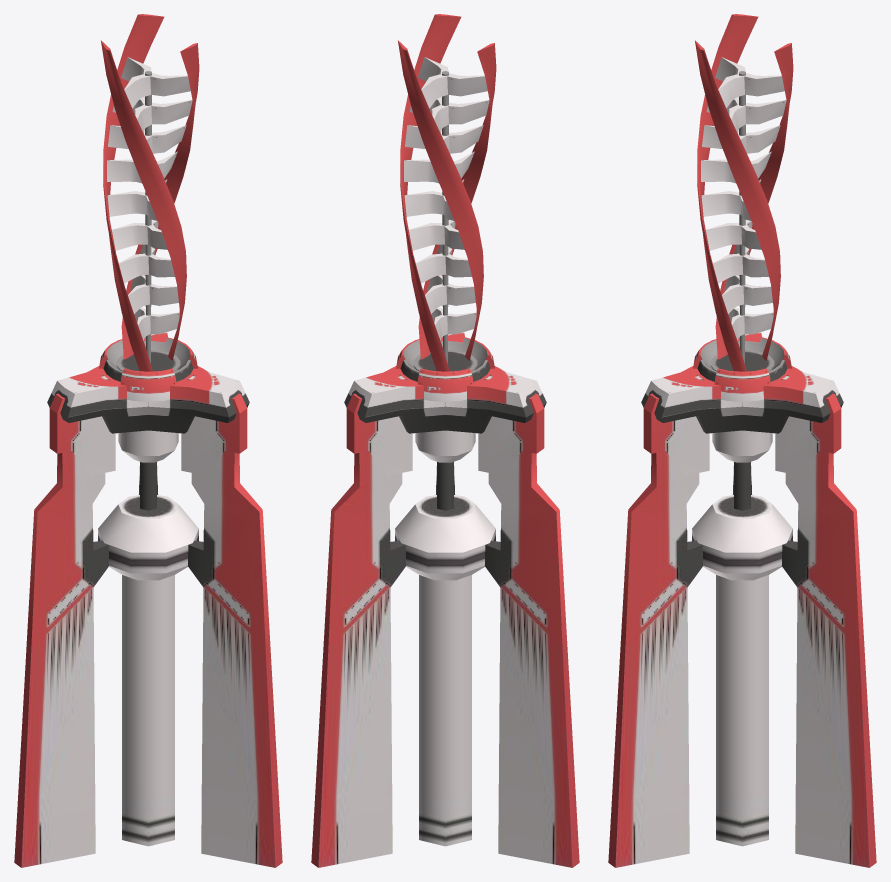
3 renders of one model, left to right at view 1: azimuth 30°, elevation 25°; view 2: azimuth 150°, elevation 25°; view 3: azimuth 270°, elevation 25°, orthographic.
Visible parts, largest first — view 1: wind-turbine; view 2: wind-turbine; view 3: wind-turbine.
Part boxes in pixels (left/top/right/bottom): wind-turbine: left=14, top=14, right=282, bottom=867; wind-turbine: left=311, top=14, right=579, bottom=867; wind-turbine: left=608, top=14, right=876, bottom=867.
Bounding box in the file's own units: 4.55 × 17.24 × 5.26.
Materials: 1 (1 with a texture image).
